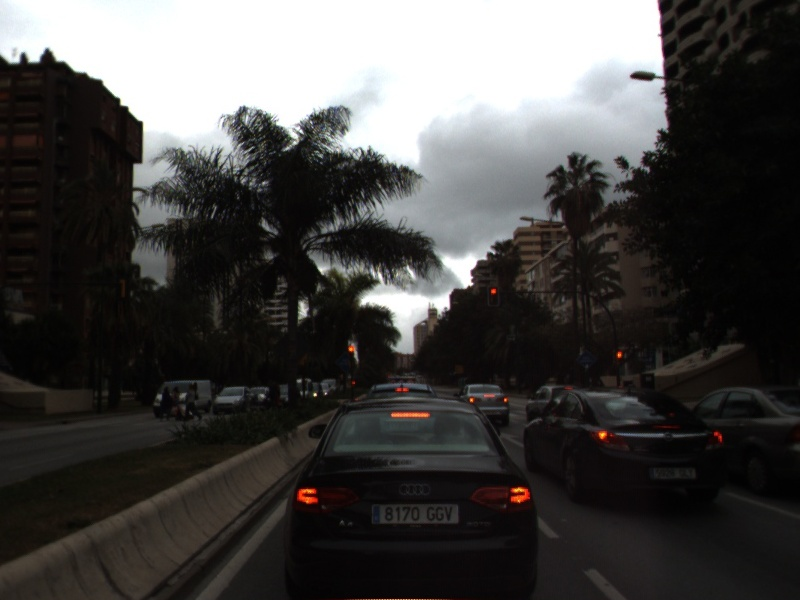STRAIGHT: (498, 429, 526, 448)
